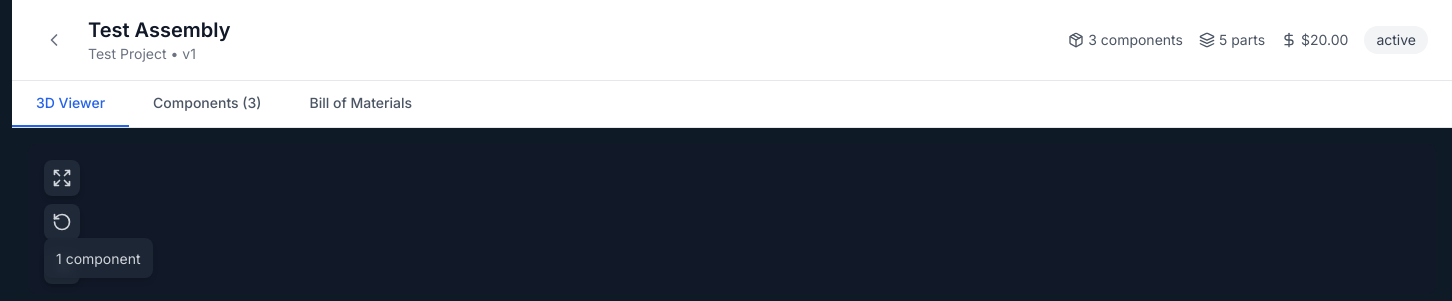
Scenario: AssemblyPage › shows add component button
Expected: the heading "Test Assembly" is shown, [88,16,230,44]
Click the button "Components (3)".
click(207, 104)  # box [129,81,286,127]
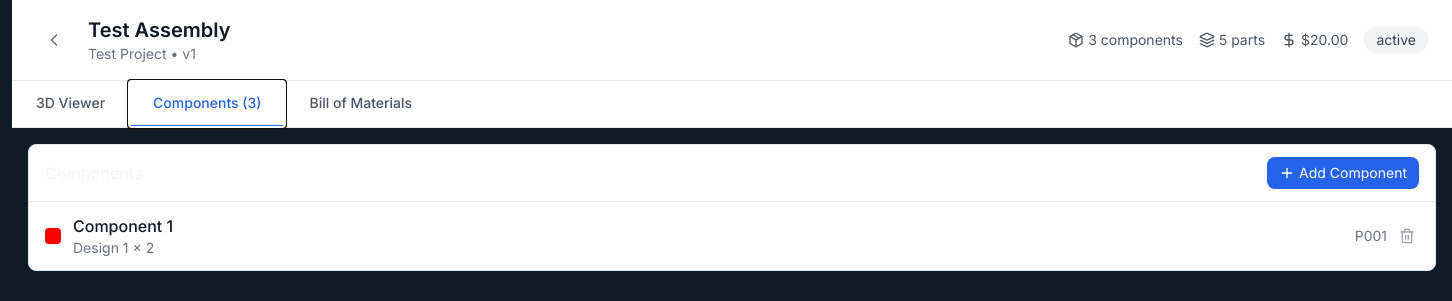
Result: the button "Add Component" is shown at [1267,157,1419,189]
